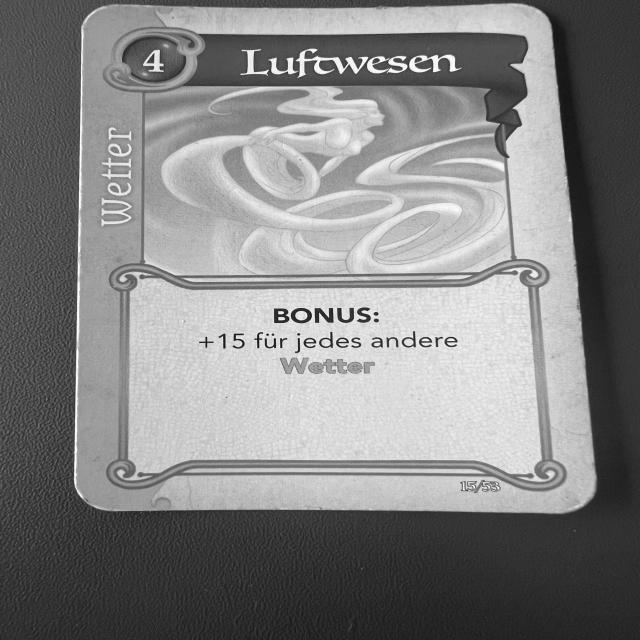Air Elemental: (71, 2, 601, 513)
